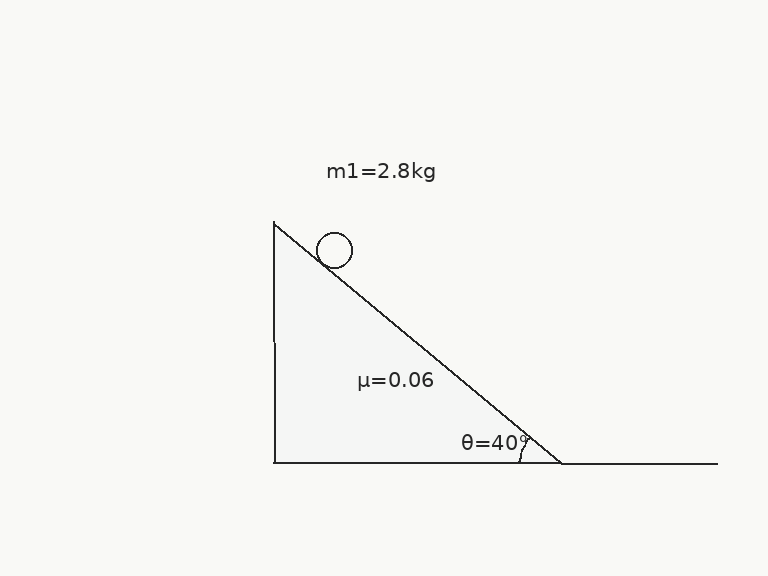ball: (314, 230, 354, 270)
ramp: (271, 221, 562, 465)
